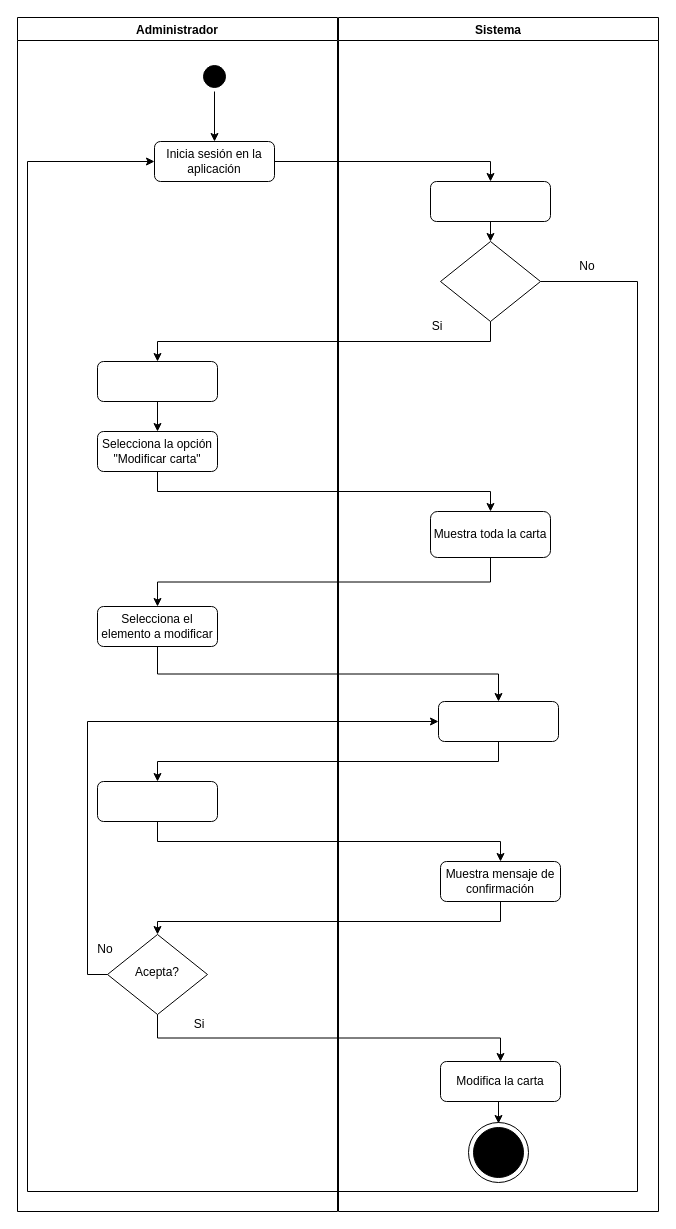
Image size: 676x1229. Some labels were removed from this diagram. The centre of each missing label's shape, as x and y in pixels:
"Control ok?" goes at (x=490, y=281).
"Controla los datos" goes at (x=490, y=201).
"Ingresa al menú principal" goes at (x=157, y=381).
"Modifica el elemento" goes at (x=157, y=801).
"Muestra formulario de modificación" goes at (x=498, y=721).
